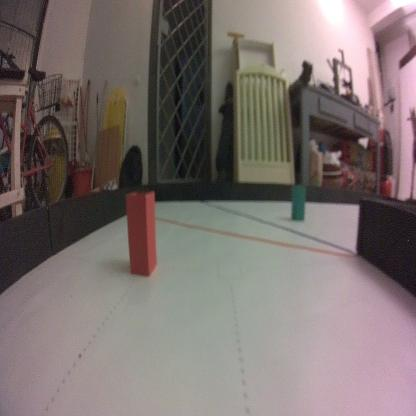green: (290, 183, 306, 222)
red: (124, 186, 158, 280)
